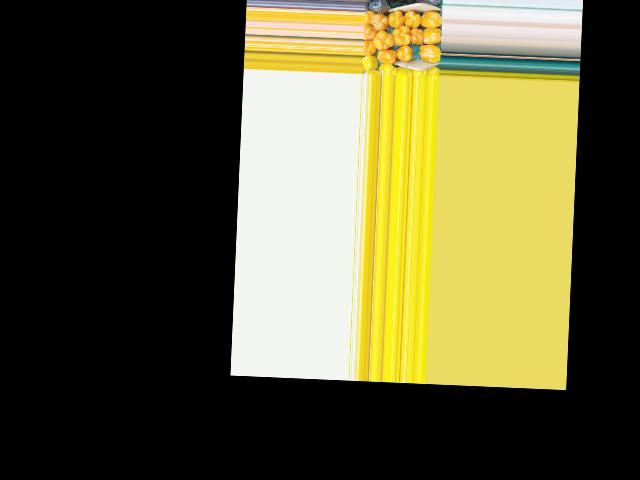bell_pepper: (377, 63, 400, 74)
